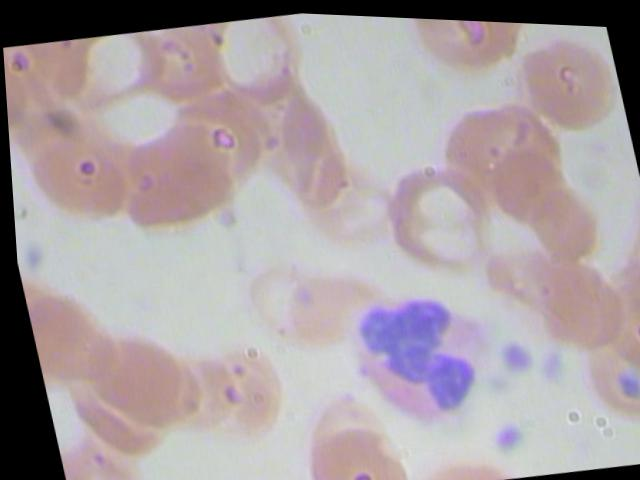Platelets: (528, 335, 573, 387), (488, 325, 533, 376), (479, 404, 524, 455)
Red Blood Cells: (90, 96, 274, 250), (71, 303, 213, 454), (367, 144, 498, 287), (486, 142, 615, 274), (425, 83, 554, 214), (459, 213, 588, 344), (514, 232, 639, 364), (499, 17, 628, 143), (185, 333, 311, 453), (21, 128, 142, 235), (234, 243, 355, 350), (287, 145, 407, 252), (196, 8, 316, 114), (137, 337, 238, 458), (20, 282, 115, 406), (290, 404, 412, 479), (400, 14, 532, 79), (567, 312, 639, 431), (50, 425, 148, 479)
White Blood Cells: (327, 274, 506, 442)
